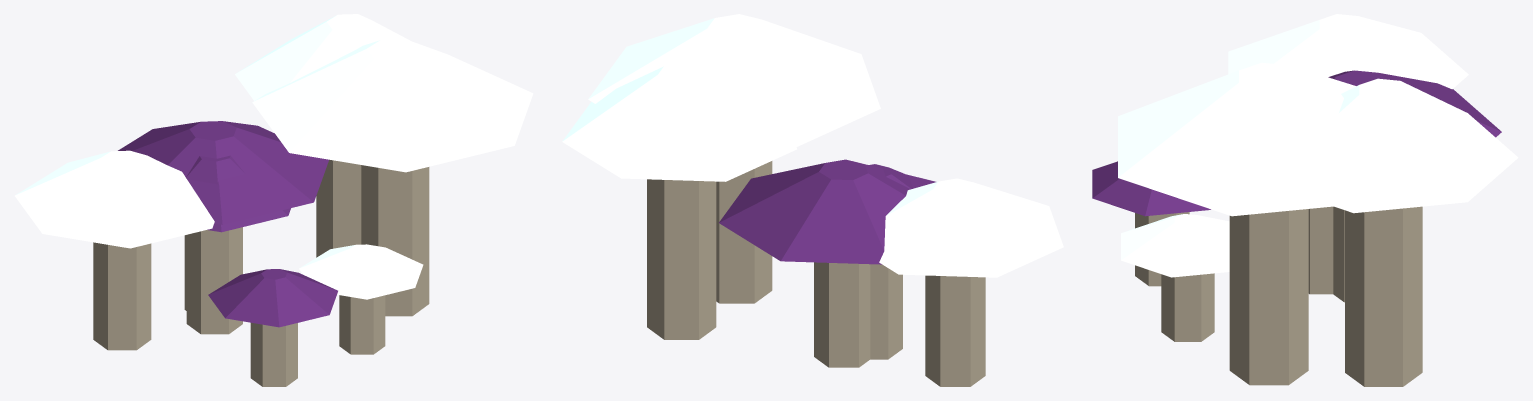
The model's file is mushroom_cluster.glb.
The picture shows the model from 3 angles, left to right: view 1: azimuth 30°, elevation 25°; view 2: azimuth 150°, elevation 25°; view 3: azimuth 270°, elevation 25°; orthographic projection. The views are drawn at different scales.
Visible parts, largest first — view 1: mushroom_cluster; view 2: mushroom_cluster; view 3: mushroom_cluster.
Part boxes in pixels (left/top/right/bottom): mushroom_cluster: left=15, top=14, right=533, bottom=386; mushroom_cluster: left=562, top=14, right=1063, bottom=386; mushroom_cluster: left=1092, top=14, right=1518, bottom=386.
Bounding box in the file's own units: 1.63 × 0.8646 × 1.14.
Materials: 2 (1 with a texture image).
